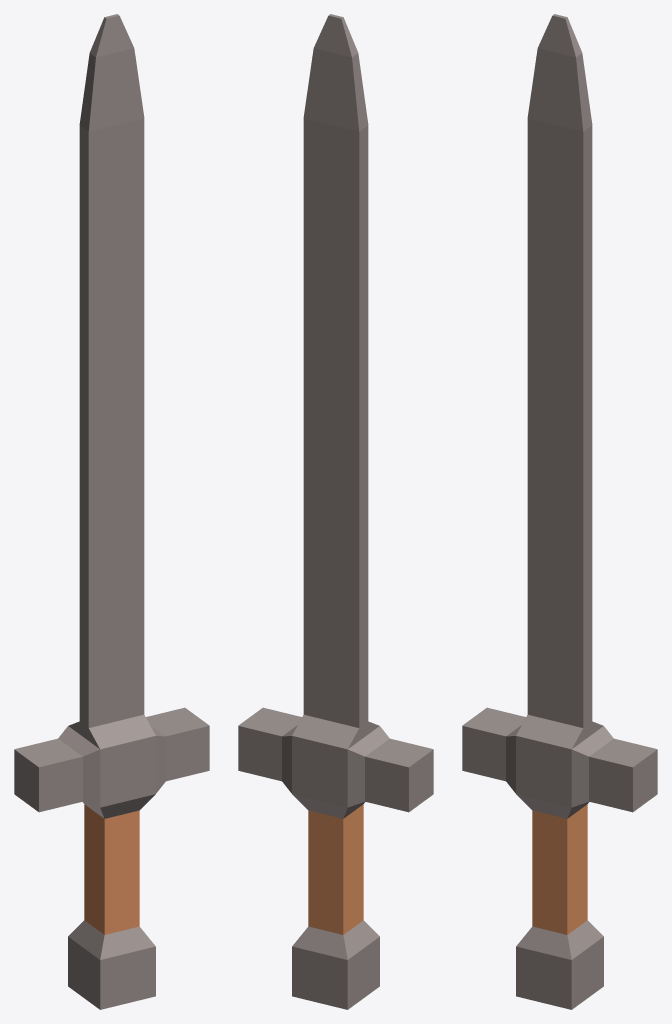
Rendered from sword.fbx.
3 renders of one model, left to right at view 1: azimuth 30°, elevation 25°; view 2: azimuth 150°, elevation 25°; view 3: azimuth 330°, elevation 25°, orthographic.
Parts seen in each view (by area): view 1: sword; view 2: sword; view 3: sword.
Part boxes in pixels (bbox=[...]): sword: bbox=[14, 14, 209, 1009]; sword: bbox=[238, 14, 433, 1009]; sword: bbox=[462, 14, 657, 1009].
Bounding box in the file's own units: 14.66 × 79.97 × 4.78.
